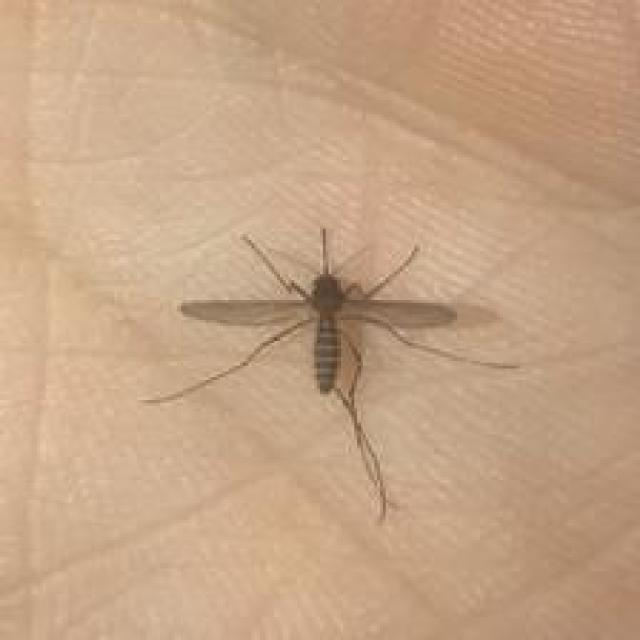Culex: (138, 223, 522, 523)
